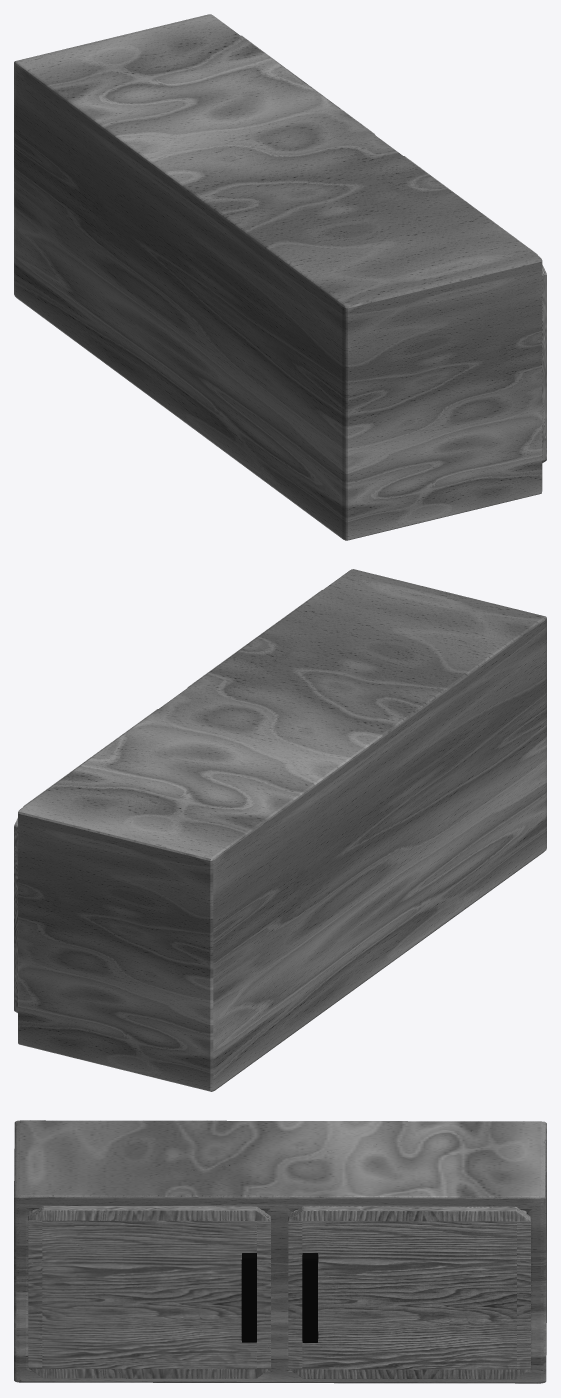
File: Wall_Kitchen_Cabinet.glb
The picture shows the model from 3 angles, top to bottom: view 1: azimuth 30°, elevation 25°; view 2: azimuth 150°, elevation 25°; view 3: azimuth 270°, elevation 25°; orthographic projection. The views are drawn at different scales.
Visible parts, largest first — view 1: BODY, LEFT DOOR; view 2: BODY, RIGHT DOOR; view 3: BODY, RIGHT DOOR, LEFT DOOR.
Boxes of the visible parts, <box> form: BODY: <box>14,14,542,540</box>; LEFT DOOR: <box>404,156,546,462</box>; BODY: <box>18,569,546,1091</box>; RIGHT DOOR: <box>14,709,157,1012</box>; BODY: <box>14,1120,546,1383</box>; RIGHT DOOR: <box>288,1206,530,1379</box>; LEFT DOOR: <box>28,1206,270,1378</box>.
Size of the model in its own units: 0.8532 by 0.8503 by 2.19.
6 materials, 4 textured.
